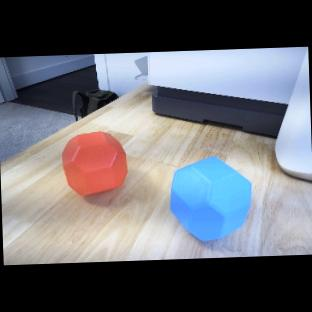V5_BLUE: (168, 153, 254, 243)
V5_RED: (61, 130, 129, 197)
